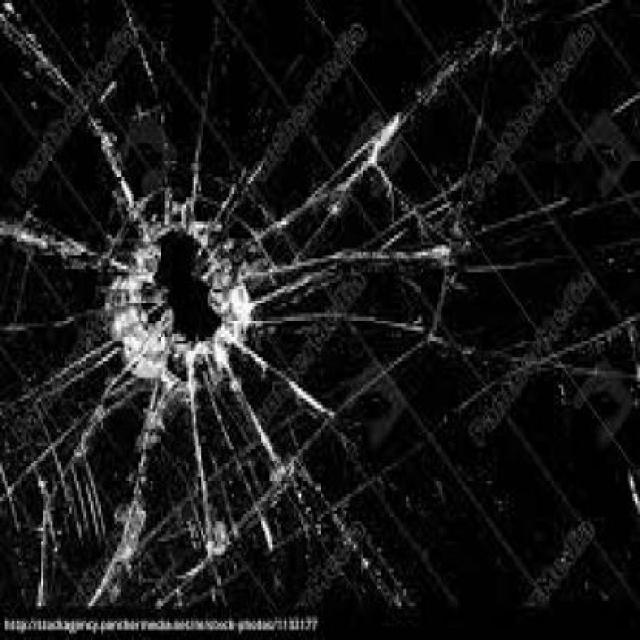kaca: (0, 0, 635, 609), (1, 314, 177, 612), (186, 331, 332, 612), (88, 354, 229, 612), (0, 0, 129, 272), (0, 0, 165, 202), (234, 232, 446, 345), (125, 0, 212, 225)
